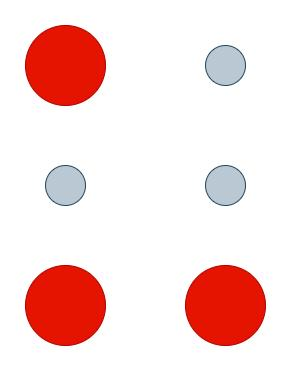U: (18, 18, 270, 350)
